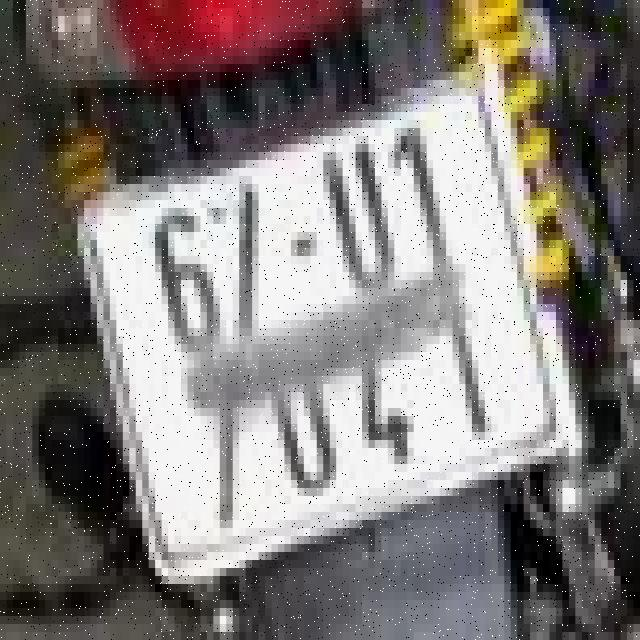0: (256, 335, 356, 509)
1: (381, 116, 463, 282), (422, 278, 503, 444)
4: (333, 300, 435, 476)
6: (134, 203, 230, 372)
7: (205, 172, 296, 353), (175, 366, 268, 540)
U: (307, 132, 412, 303)
